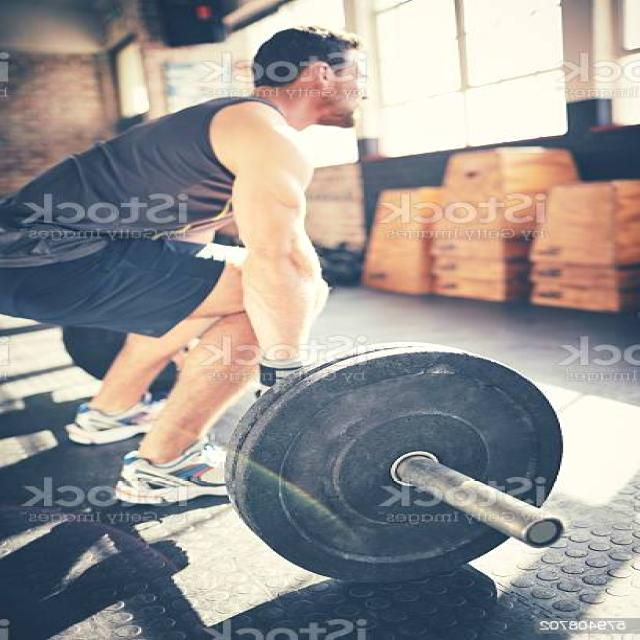barbell_plate_side: (223, 340, 309, 583), (480, 340, 566, 583)
